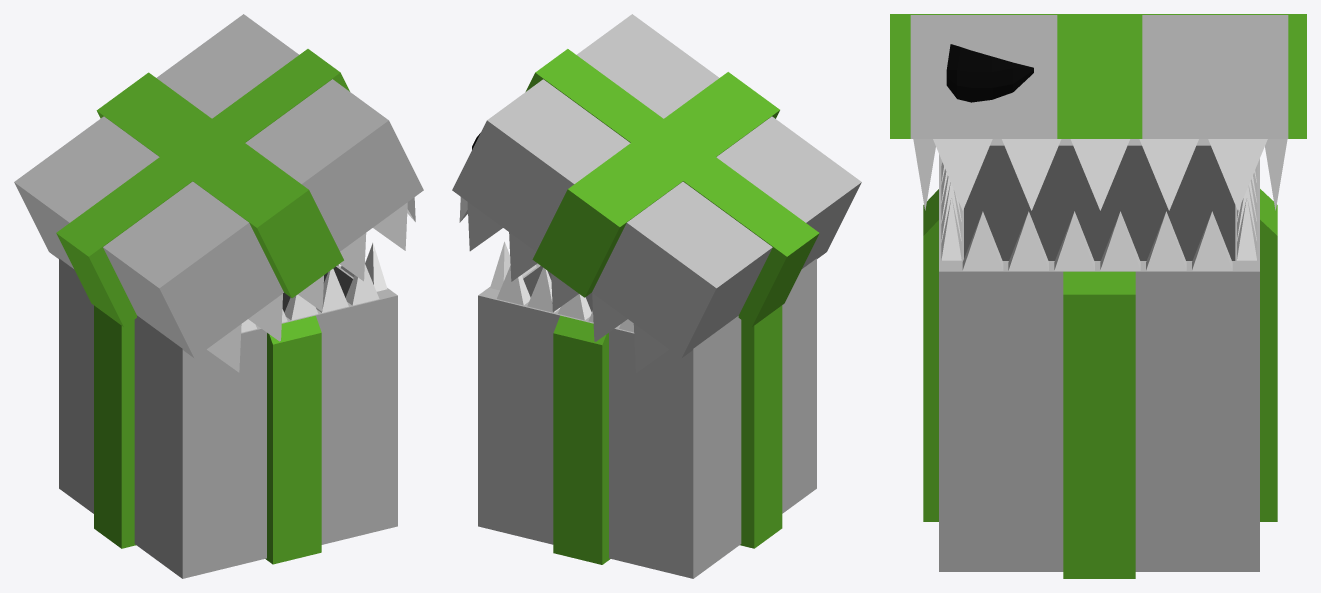
Rendered from RegaloVerdeShiny.fbx.
The picture shows the model from 3 angles, left to right: view 1: azimuth 30°, elevation 25°; view 2: azimuth 150°, elevation 25°; view 3: azimuth 270°, elevation 25°; orthographic projection. The views are drawn at different scales.
Visible parts, largest first — view 1: Cube.008, Cube.006; view 2: Cube.008, Cube.006; view 3: Cube.006, Cube.008.
Boxes of the visible parts, box(x1,y1,x2,y2) form: Cube.008: box(14, 14, 423, 372); Cube.006: box(59, 243, 397, 578); Cube.008: box(452, 14, 861, 372); Cube.006: box(478, 241, 816, 578); Cube.006: box(923, 139, 1277, 578); Cube.008: box(890, 14, 1306, 210).
Size of the model in its own units: 10.46 by 14.62 by 10.
